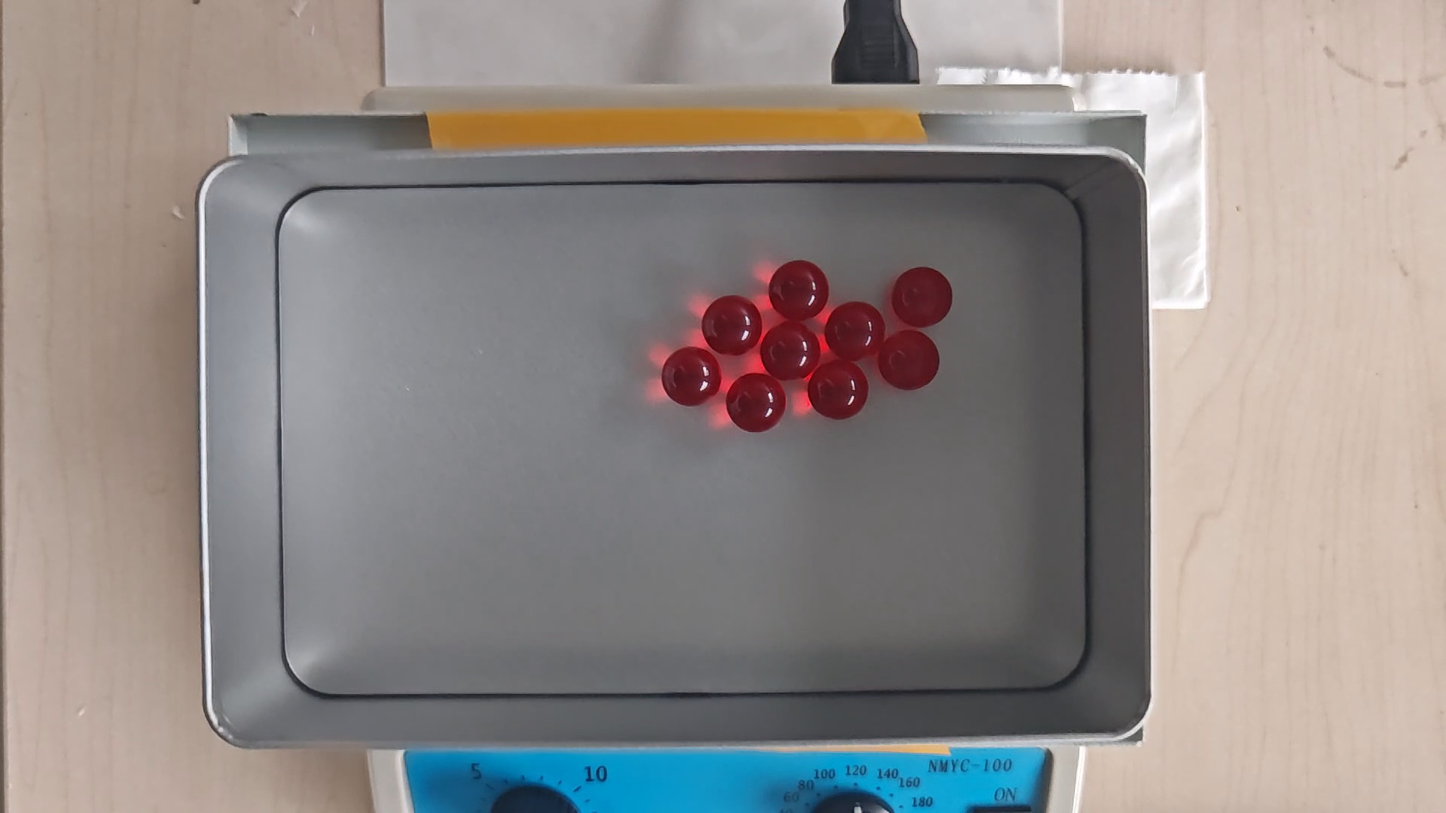ball: (825, 299, 886, 364), (890, 266, 953, 328), (725, 372, 787, 434), (877, 330, 939, 392), (808, 359, 868, 423), (660, 347, 721, 409), (700, 294, 761, 356), (768, 260, 830, 319), (758, 322, 820, 381)
container: (276, 184, 1088, 696)
